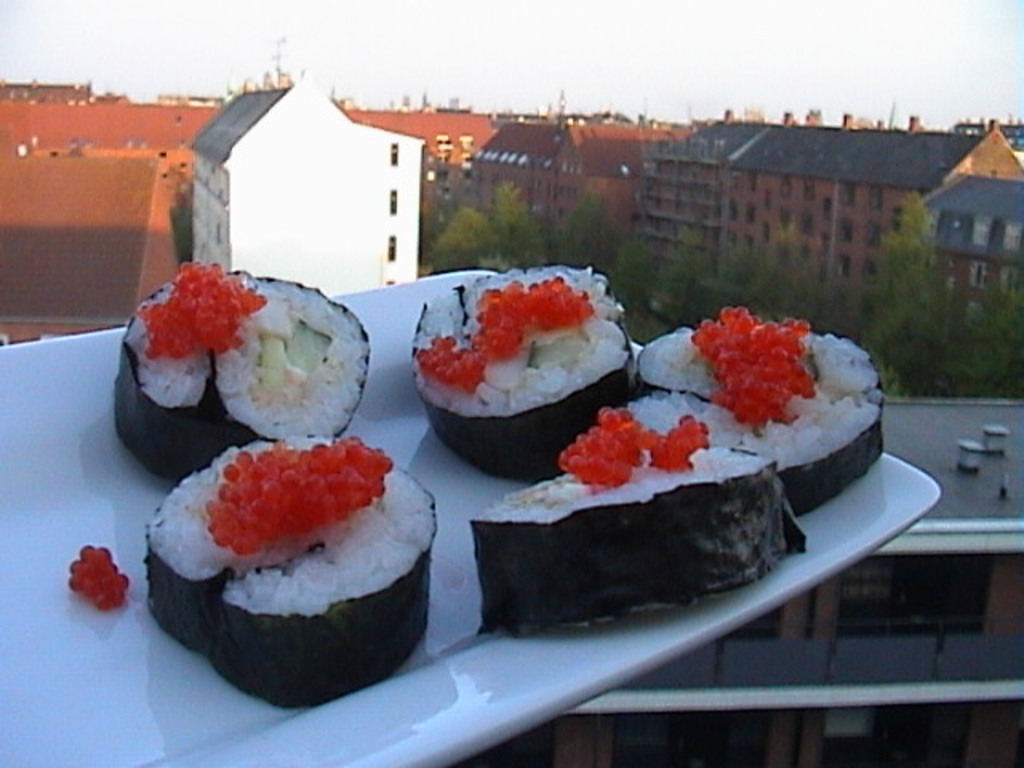sushi: (485, 405, 808, 638), (142, 462, 413, 699), (118, 258, 368, 483), (627, 306, 883, 520), (410, 262, 637, 478)
